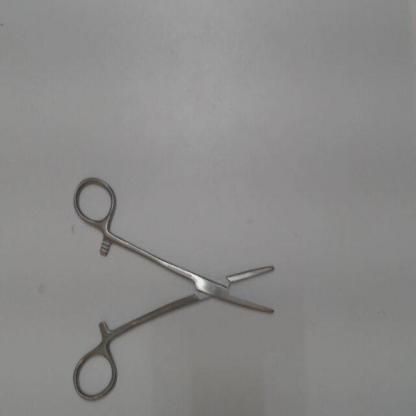Mayo Needle Holder: (67, 169, 285, 406)
